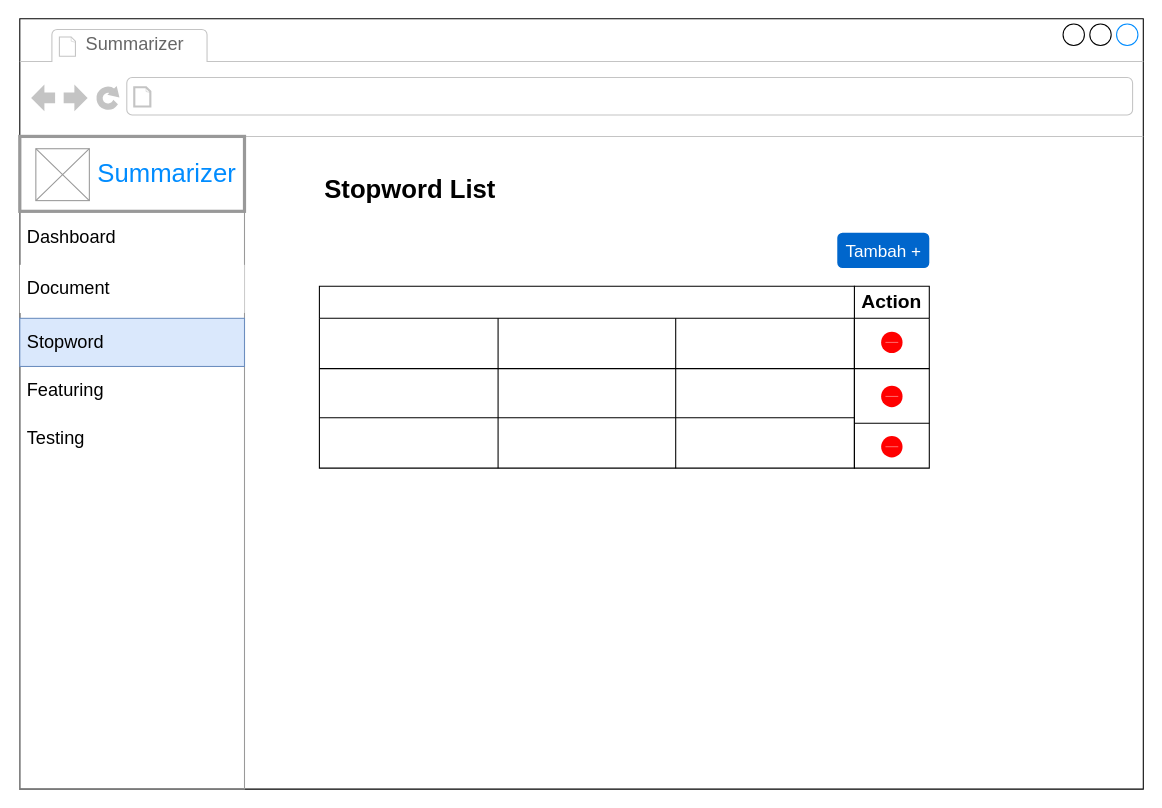
Some shapes in this 1162 by 808 pixel diagram are drawn without their labels. Here are the shapes that lost their labels. From the top down, the centre of each, then its label:
At point (292, 96): "https://".
At point (586, 376): "Stopword Table".
